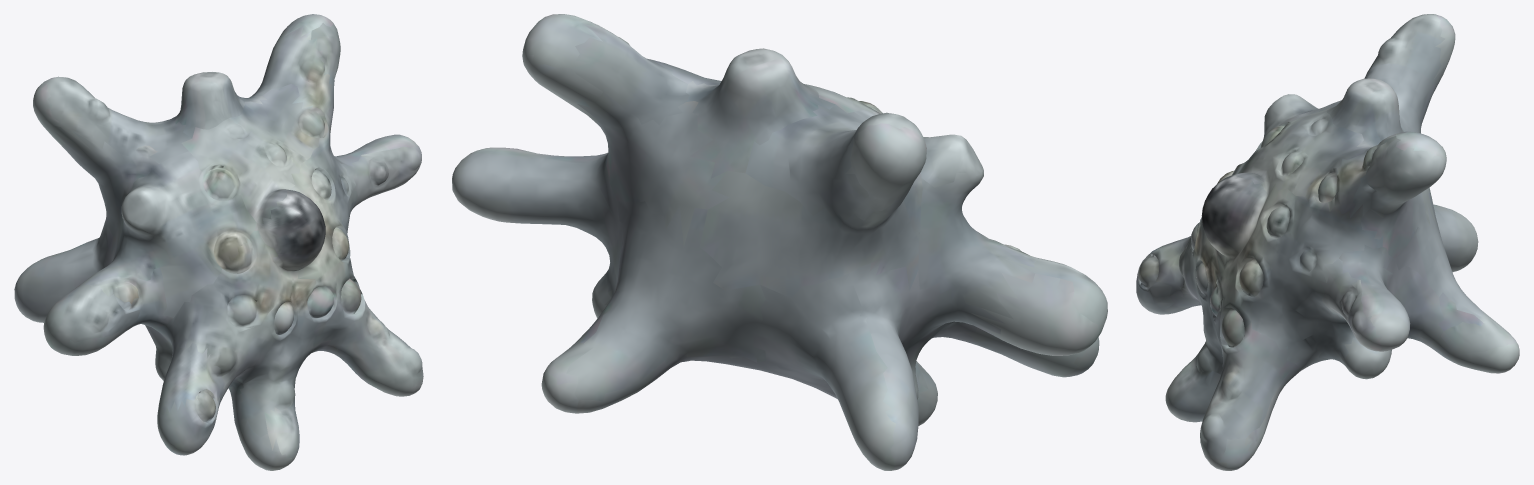
Rendered from amoeba.glb.
The picture shows the model from 3 angles, left to right: view 1: azimuth 30°, elevation 25°; view 2: azimuth 150°, elevation 25°; view 3: azimuth 270°, elevation 25°; orthographic projection. The views are drawn at different scales.
Parts seen in each view (by area): view 1: tripo_node_9b63d9da-daec-4ad4-b0fc-462f64bf8834; view 2: tripo_node_9b63d9da-daec-4ad4-b0fc-462f64bf8834; view 3: tripo_node_9b63d9da-daec-4ad4-b0fc-462f64bf8834.
Boxes of the visible parts, box(x1,y1,x2,y2) form: tripo_node_9b63d9da-daec-4ad4-b0fc-462f64bf8834: box(14, 14, 423, 470); tripo_node_9b63d9da-daec-4ad4-b0fc-462f64bf8834: box(452, 14, 1107, 470); tripo_node_9b63d9da-daec-4ad4-b0fc-462f64bf8834: box(1136, 14, 1519, 470).
Bounding box in the file's own units: 1 × 0.7712 × 0.7458.
Materials: 1 (1 with a texture image).
